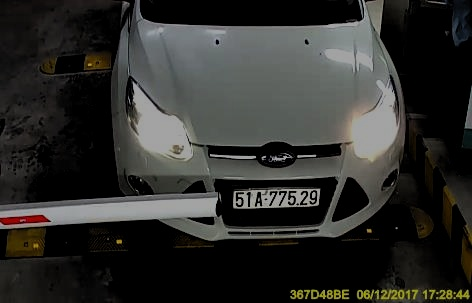plate: (231, 181, 327, 213)
